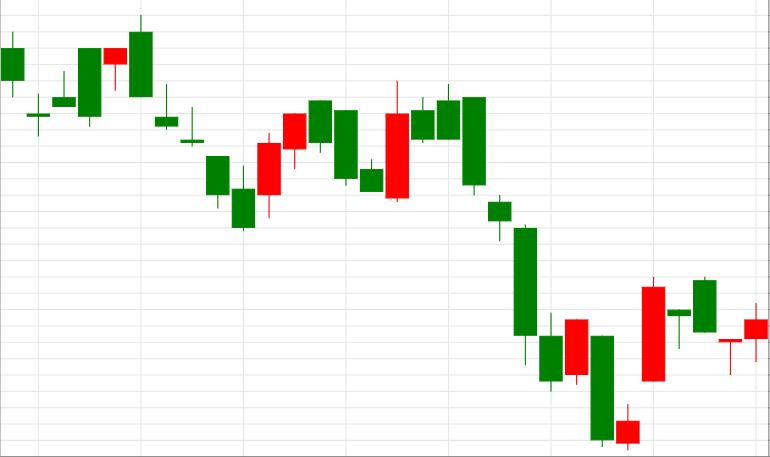bullish_engulfing_rise: (309, 80, 409, 203)
